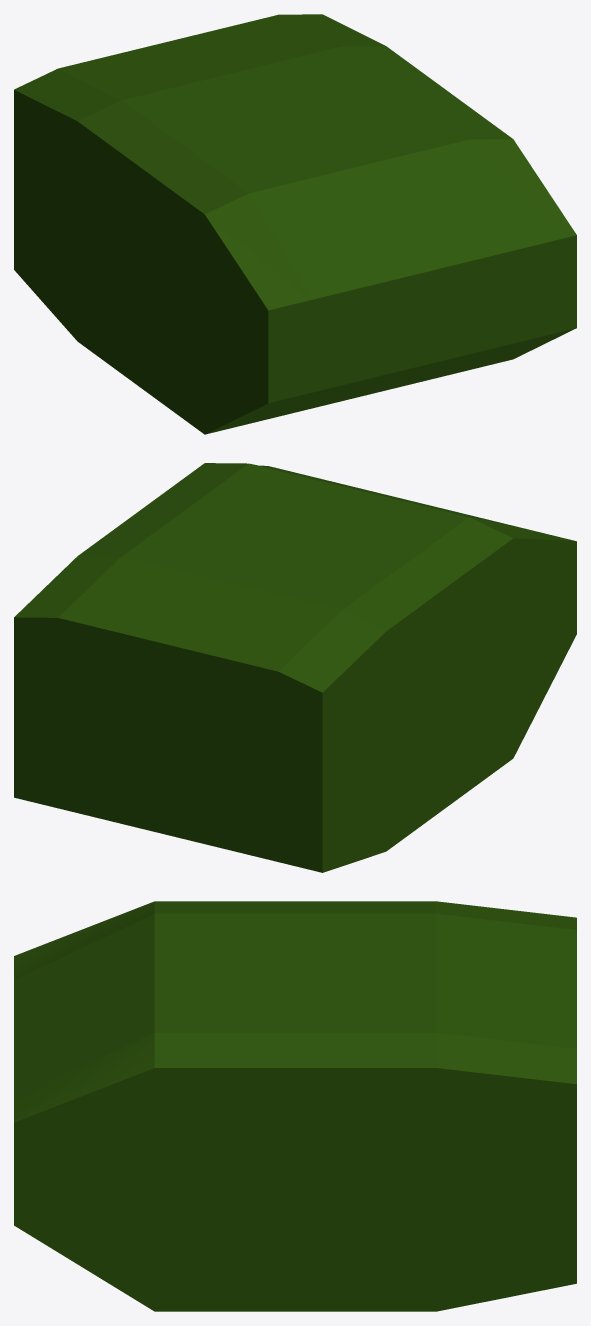
Rendered from Tank.obj.
The picture shows the model from 3 angles, top to bottom: view 1: azimuth 30°, elevation 25°; view 2: azimuth 150°, elevation 25°; view 3: azimuth 270°, elevation 25°; orthographic projection. The views are drawn at different scales.
Parts seen in each view (by area): view 1: Tank; view 2: Tank; view 3: Tank.
Part boxes in pixels (x1,y1,x2,y2): Tank: (14,14,576,434); Tank: (14,463,576,872); Tank: (14,901,576,1311).
Bounding box in the file's own units: 0.7005 × 0.5 × 1.
